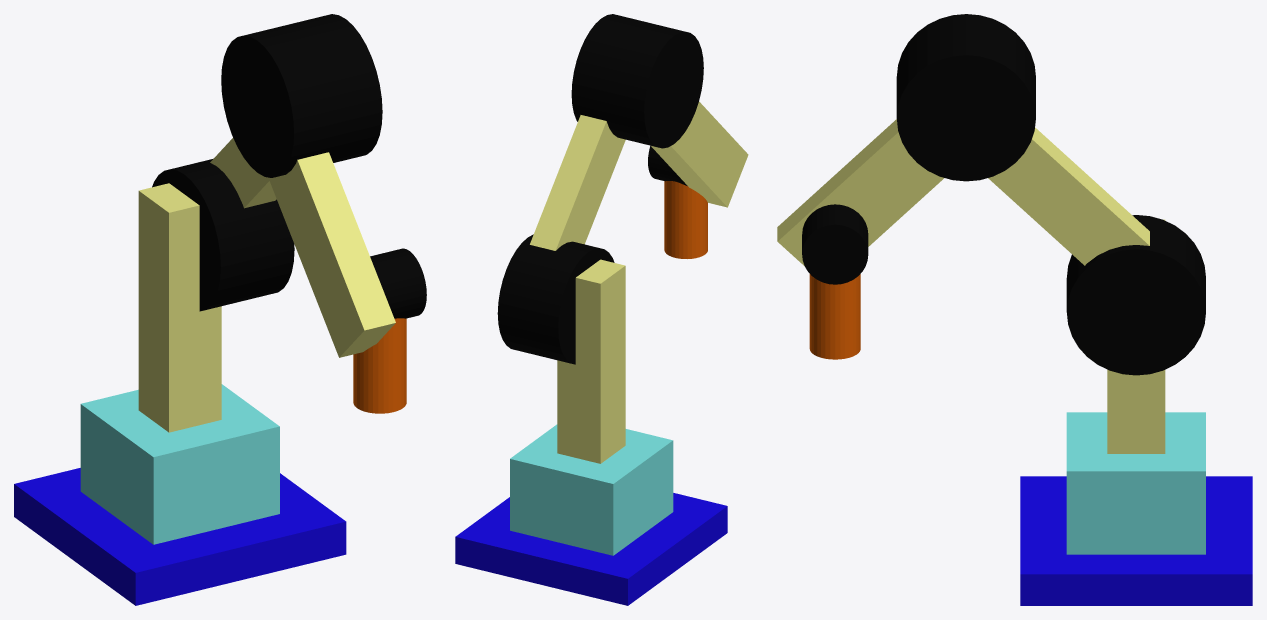
Rendered from Roboterarm3.gltf.
3 views of the same model, side by side, from view 1: azimuth 30°, elevation 25°; view 2: azimuth 150°, elevation 25°; view 3: azimuth 270°, elevation 25° (orthographic). The views are drawn at different scales.
Visible parts, largest first — view 1: Cube.001, Cube, Cylinder.002, Cube.003, Cube.002, Cylinder.001, Cylinder, Cylinder.003, Cube.004; view 2: Cube.001, Cube, Cylinder.002, Cube.003, Cylinder.001, Cube.004, Cube.002, Cylinder, Cylinder.003; view 3: Cylinder.002, Cube, Cube.001, Cylinder.001, Cube.004, Cube.002, Cube.003, Cylinder.003, Cylinder.
Part boxes in pixels (<box>): Cube.001: <box>80,384,279,544</box>; Cube: <box>14,468,346,605</box>; Cylinder.002: <box>221,14,382,177</box>; Cube.003: <box>138,183,221,432</box>; Cube.002: <box>268,152,395,357</box>; Cylinder.001: <box>152,159,294,311</box>; Cylinder: <box>353,318,406,413</box>; Cylinder.003: <box>370,248,426,318</box>; Cube.004: <box>210,138,276,208</box>; Cube.001: <box>510,424,673,555</box>; Cube: <box>455,493,727,605</box>; Cylinder.002: <box>571,14,703,148</box>; Cube.003: <box>557,259,625,463</box>; Cylinder.001: <box>497,234,614,364</box>; Cube.004: <box>530,115,625,250</box>; Cube.002: <box>651,101,748,207</box>; Cylinder: <box>664,181,707,258</box>; Cylinder.003: <box>648,146,687,185</box>; Cylinder.002: <box>896,14,1035,181</box>; Cube: <box>1020,476,1252,605</box>; Cube.001: <box>1066,412,1205,554</box>; Cylinder.001: <box>1066,215,1205,375</box>; Cube.004: <box>988,127,1149,265</box>; Cube.002: <box>777,119,944,266</box>; Cube.003: <box>1107,219,1165,453</box>; Cylinder.003: <box>802,204,868,284</box>; Cylinder: <box>809,274,860,359</box>.
Bounding box in the file's own units: 4 × 10.22 × 8.18.
